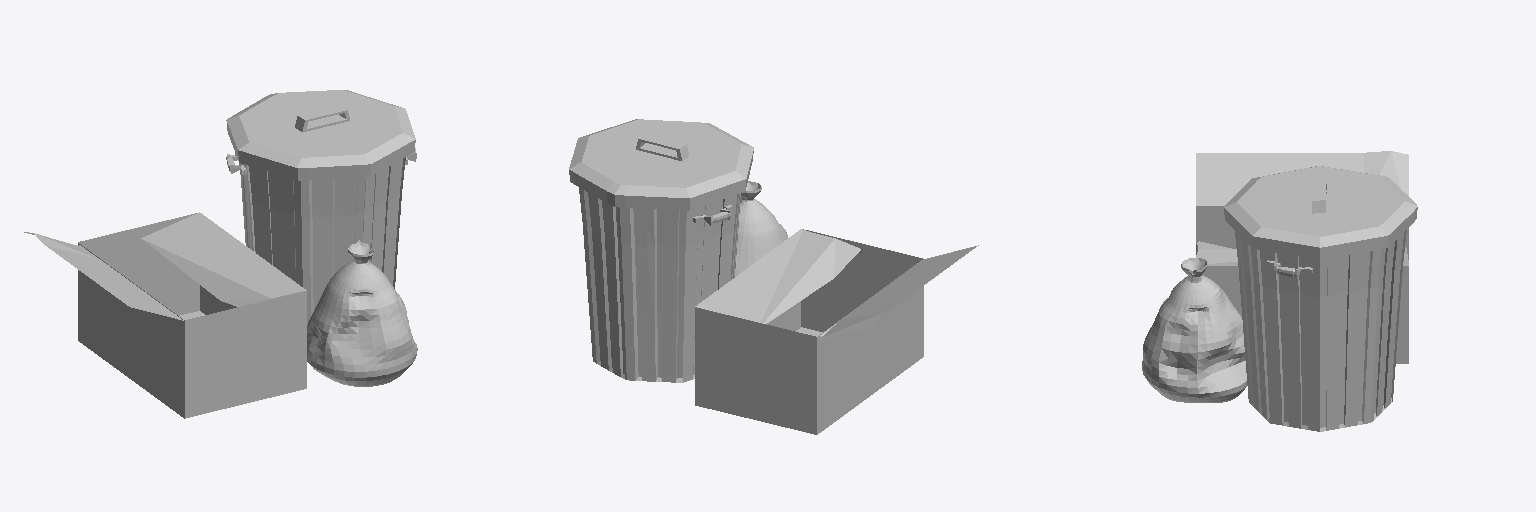
The model's file is robotspawncamp.obj.
3 views of the same model, side by side, from view 1: azimuth 30°, elevation 25°; view 2: azimuth 150°, elevation 25°; view 3: azimuth 270°, elevation 25° (orthographic).
Parts seen in each view (by area): view 1: initialShadingGroup cardboard_box1, initialShadingGroup trash_can7, initialShadingGroup pSphere1; view 2: initialShadingGroup cardboard_box1, initialShadingGroup trash_can7, initialShadingGroup pSphere1; view 3: initialShadingGroup trash_can7, initialShadingGroup pSphere1, initialShadingGroup cardboard_box1.
Part boxes in pixels (x1,y1,x2,y2): initialShadingGroup cardboard_box1: (24, 212, 306, 418); initialShadingGroup trash_can7: (226, 90, 416, 324); initialShadingGroup pSphere1: (307, 240, 417, 386); initialShadingGroup cardboard_box1: (695, 229, 978, 434); initialShadingGroup trash_can7: (569, 119, 753, 382); initialShadingGroup pSphere1: (735, 181, 787, 276); initialShadingGroup trash_can7: (1224, 166, 1417, 431); initialShadingGroup pSphere1: (1142, 258, 1246, 402); initialShadingGroup cardboard_box1: (1196, 151, 1408, 363).
Bounding box in the file's own units: 10.17 × 6.17 × 7.15.